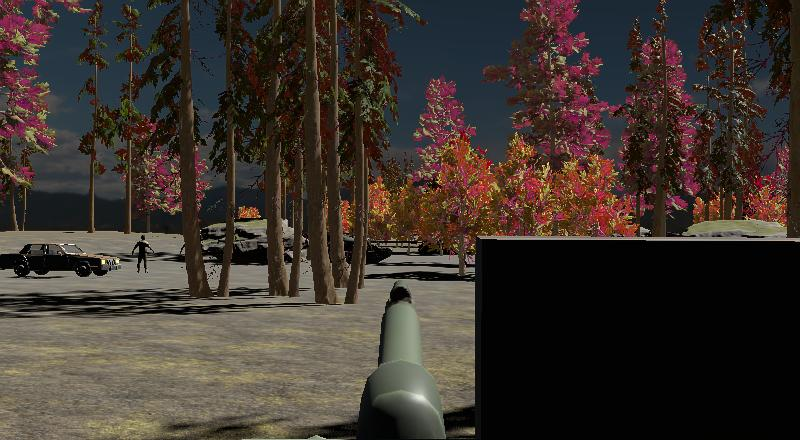Human: (131, 233, 155, 275)
Tank: (327, 229, 419, 265)
car: (14, 241, 122, 278), (0, 248, 23, 272)
